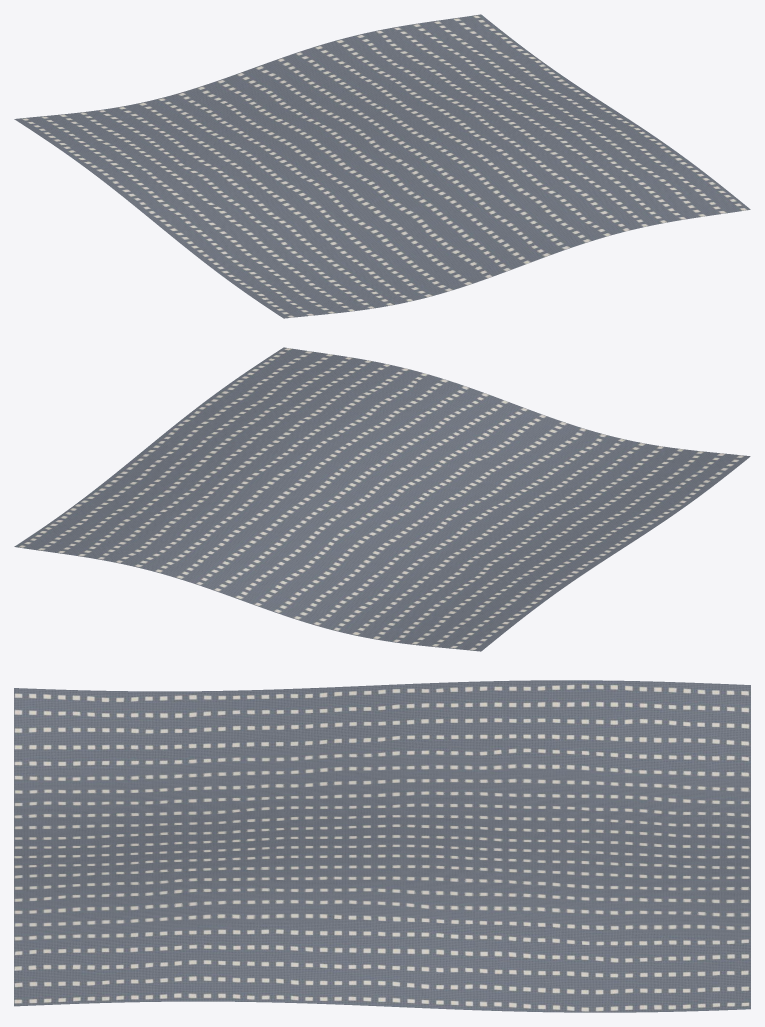
Rendered from kantha_swatch_059.glb.
3 views of the same model, one above another, from view 1: azimuth 30°, elevation 25°; view 2: azimuth 150°, elevation 25°; view 3: azimuth 270°, elevation 25° (orthographic). The views are drawn at different scales.
Parts seen in each view (by area): view 1: KanthaSwatch_059; view 2: KanthaSwatch_059; view 3: KanthaSwatch_059.
Part boxes in pixels (x1,y1,x2,y2): KanthaSwatch_059: (14,14,750,318); KanthaSwatch_059: (14,347,750,651); KanthaSwatch_059: (14,680,750,1012).
Size of the model in its own units: 0.36 by 0.018 by 0.36.
Materials: 1 (1 with a texture image).
